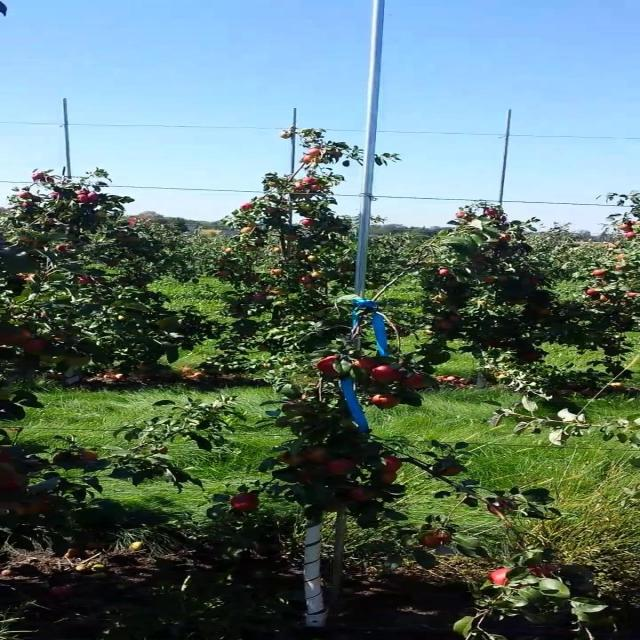apple: (490, 568, 526, 588), (369, 368, 405, 384), (419, 532, 453, 548), (490, 568, 517, 588), (6, 328, 34, 347), (326, 460, 356, 476), (20, 340, 50, 355), (319, 356, 341, 376), (234, 496, 261, 512), (532, 564, 560, 579), (490, 500, 516, 516), (305, 448, 329, 464), (383, 456, 405, 472), (376, 396, 402, 409), (6, 476, 27, 492), (348, 488, 372, 501), (28, 500, 52, 513), (404, 376, 427, 389), (355, 360, 379, 372), (70, 356, 92, 368), (6, 504, 28, 516), (284, 456, 306, 467), (42, 356, 66, 364), (383, 472, 398, 484), (298, 472, 313, 484), (440, 468, 462, 476), (525, 352, 540, 362), (84, 452, 100, 461), (6, 452, 16, 464), (56, 456, 68, 463)
